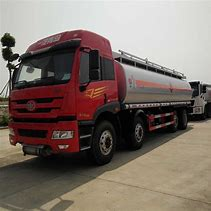oil truck: (9, 27, 193, 166)
